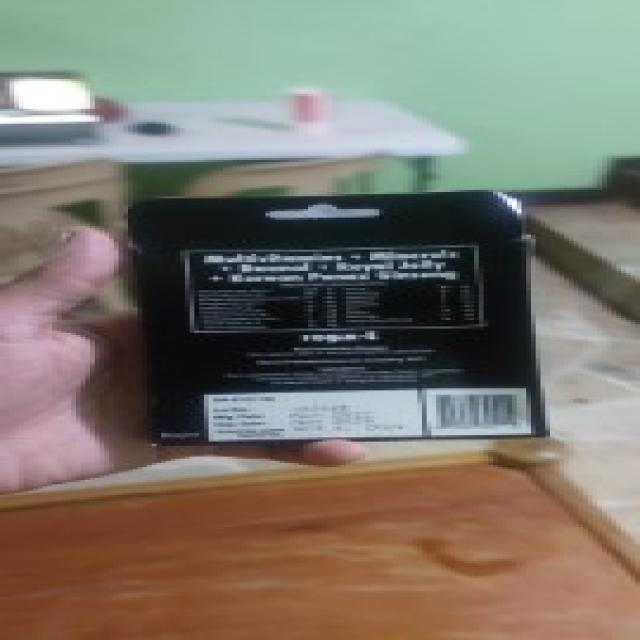Cacat: (121, 192, 560, 444)
